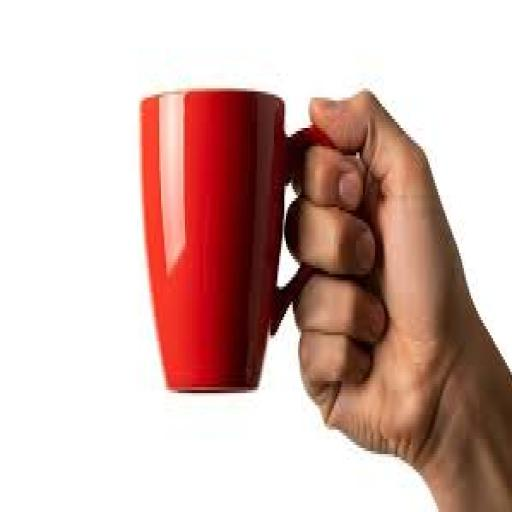red mug: (141, 89, 328, 390)
